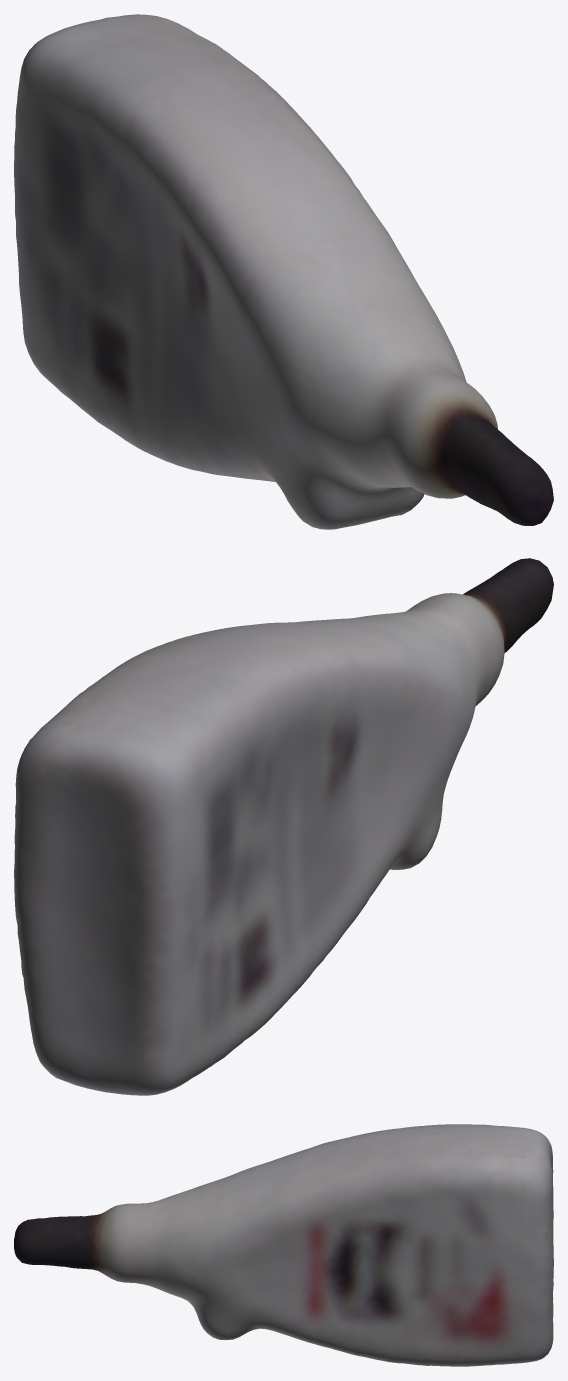
3 renders of one model, top to bottom at view 1: azimuth 30°, elevation 25°; view 2: azimuth 150°, elevation 25°; view 3: azimuth 270°, elevation 25°, orthographic. The views are drawn at different scales.
Bounding box in the file's own units: 0.0367 × 0.0779 × 0.1728.
